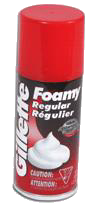grozi_87: (12, 3, 84, 202)
